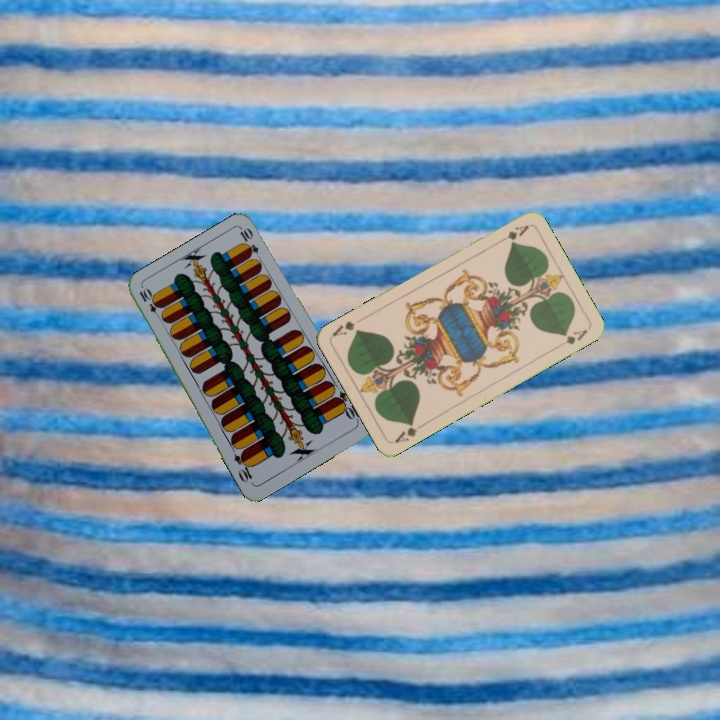E10: (330, 387, 361, 424), (135, 284, 165, 322)
GA: (390, 417, 427, 446), (493, 221, 531, 246)
